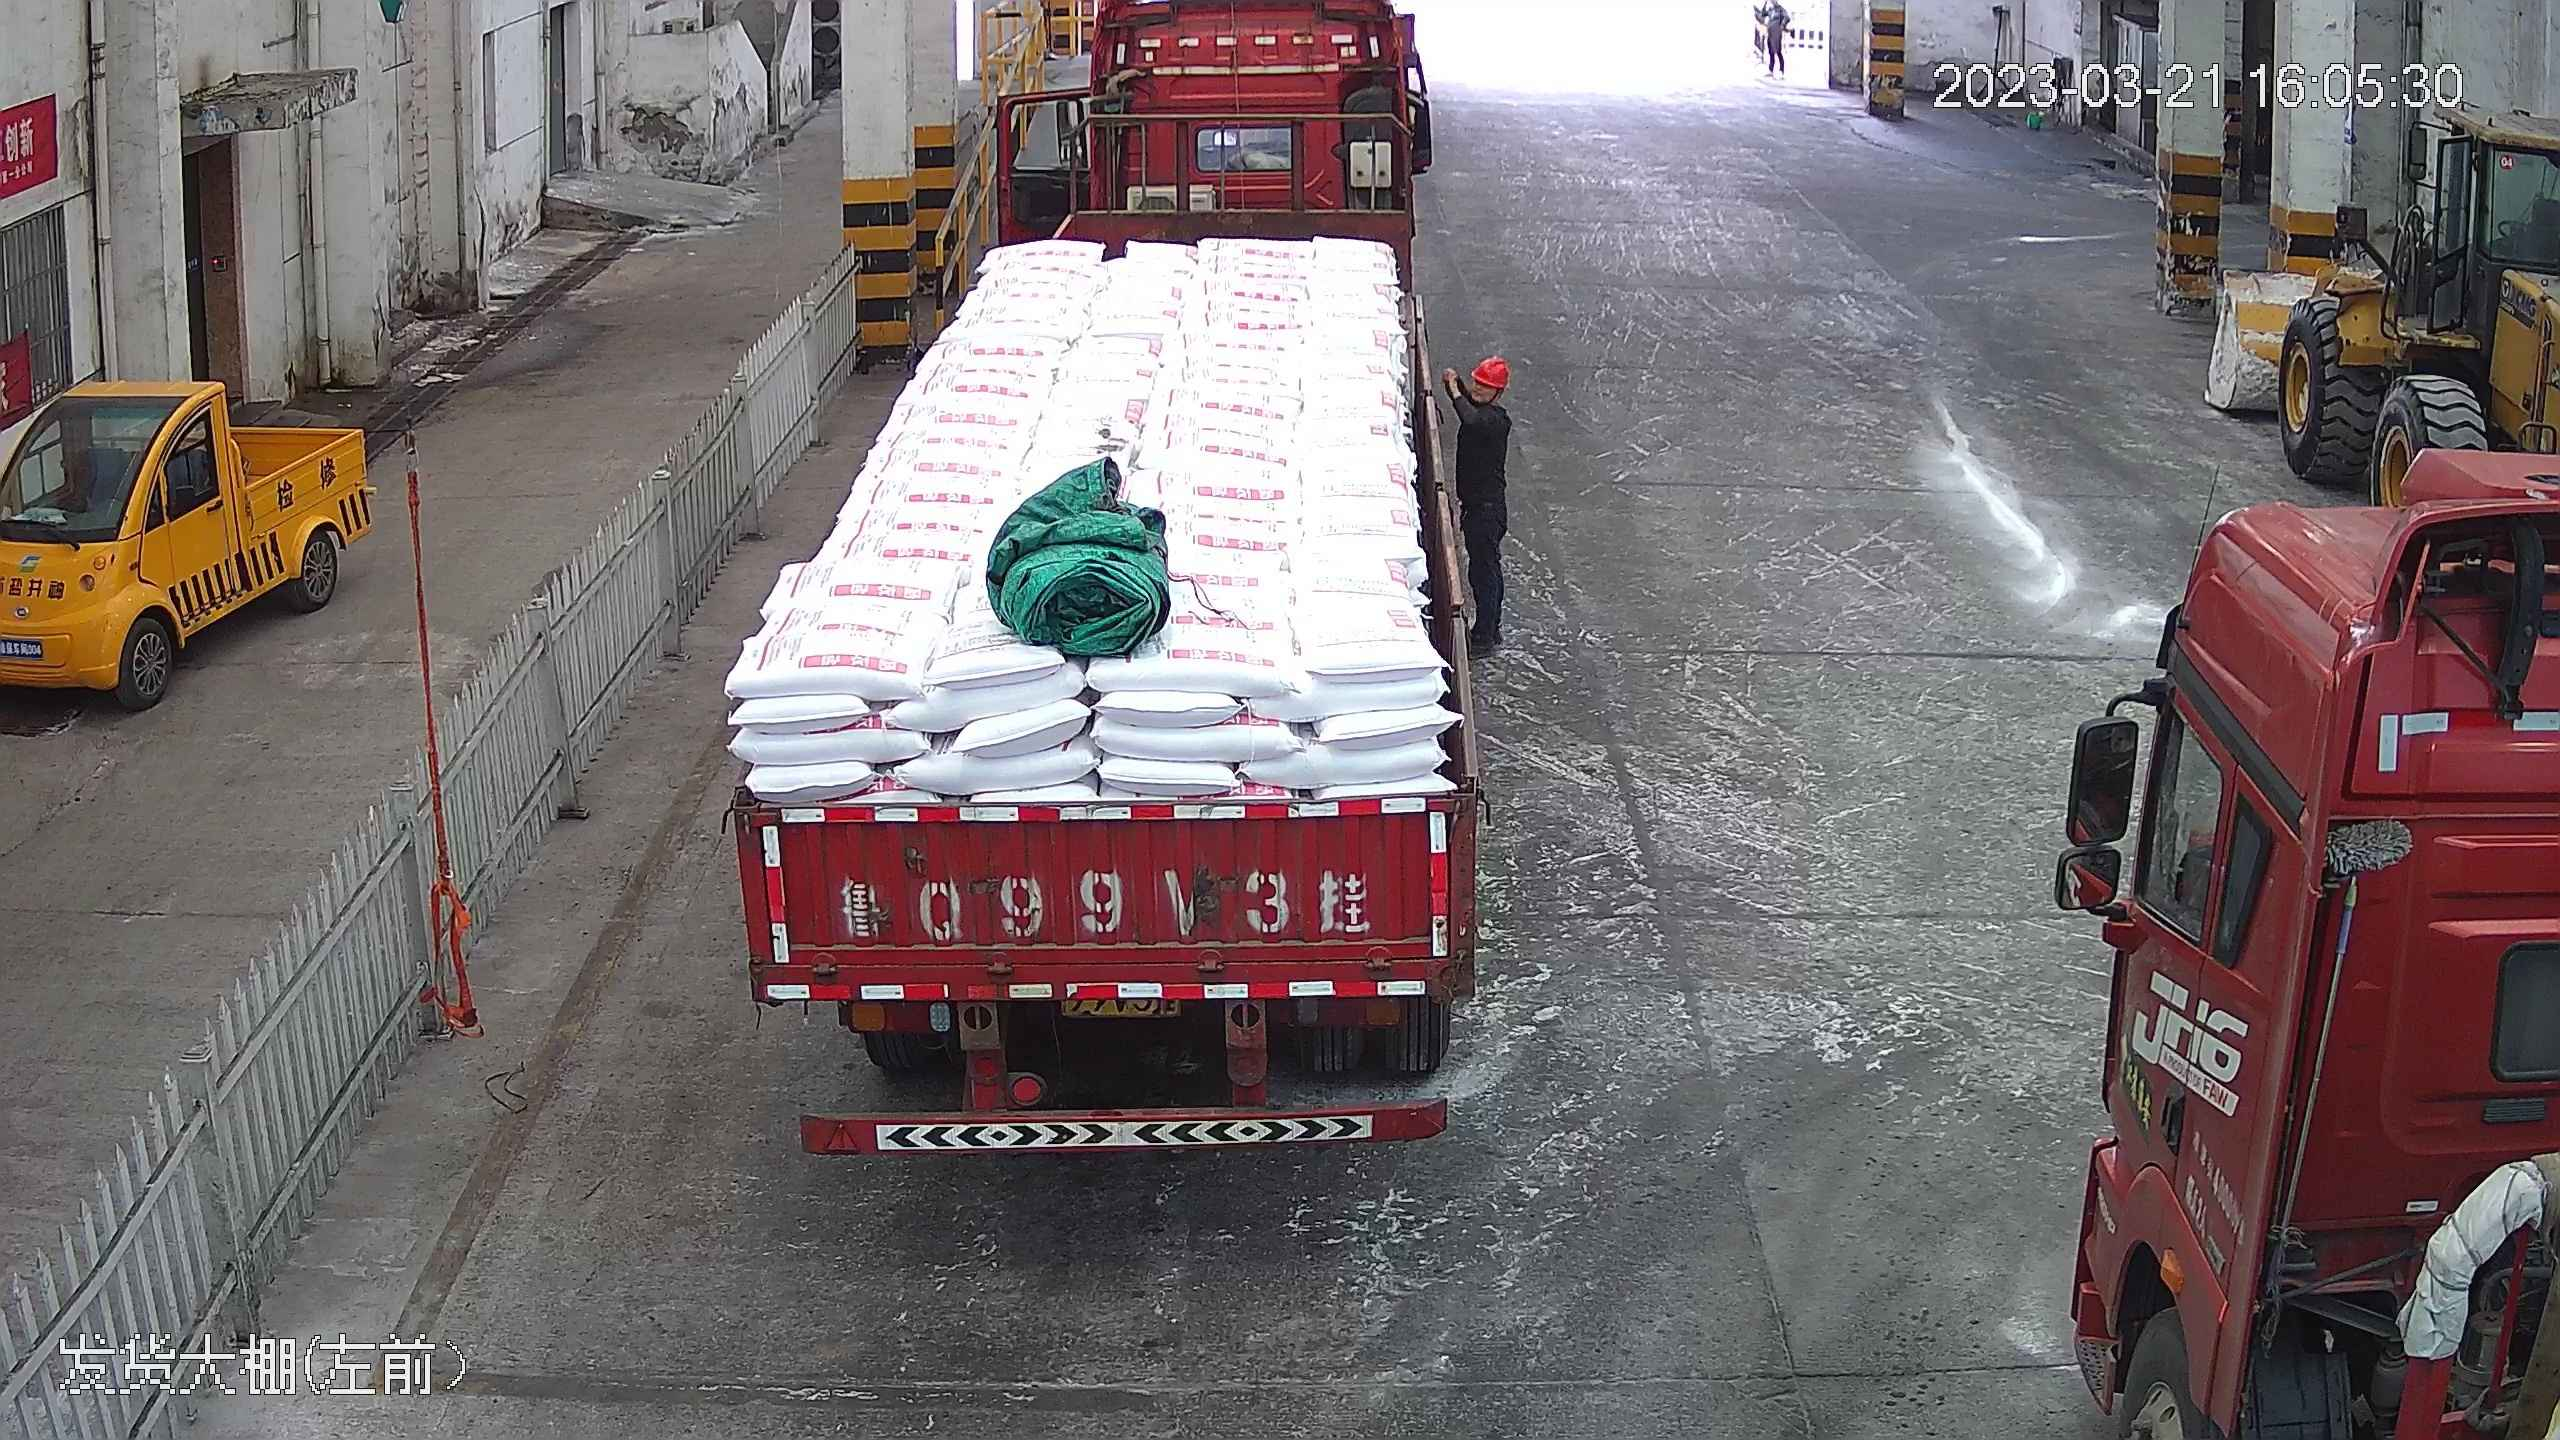head: (1446, 353, 1517, 447)
helmet: (1468, 354, 1512, 389)
people: (1441, 351, 1520, 662)
truck: (711, 0, 1482, 1151), (2052, 454, 2560, 1437)
